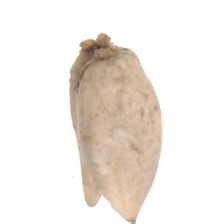L1: (84, 194, 140, 222), (76, 33, 119, 65)
L2: (69, 33, 164, 222)
